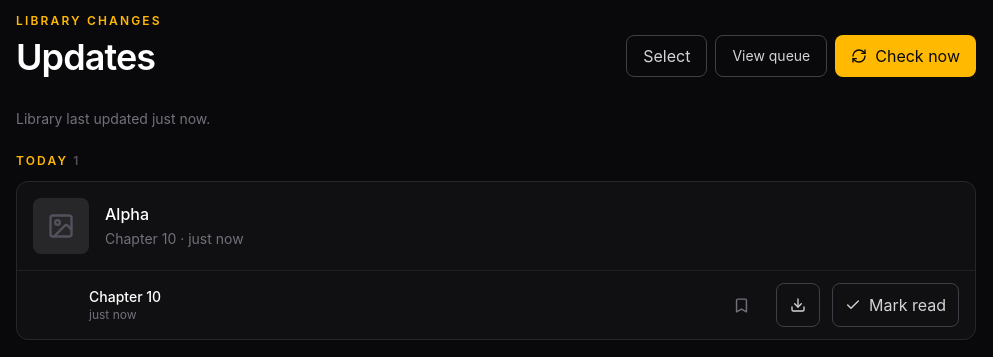
Test case: UpdatesPage › queues a chapter download from its row
Click the button named "Download Chapter 10": [798, 305] box left=776, top=283, right=820, bottom=327
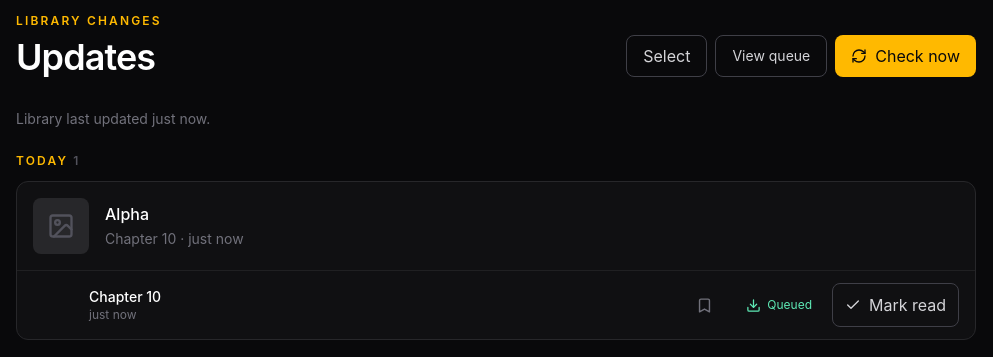
Expected: the element named "Chapter 10 saved" is shown, left=746, top=297, right=812, bottom=312
